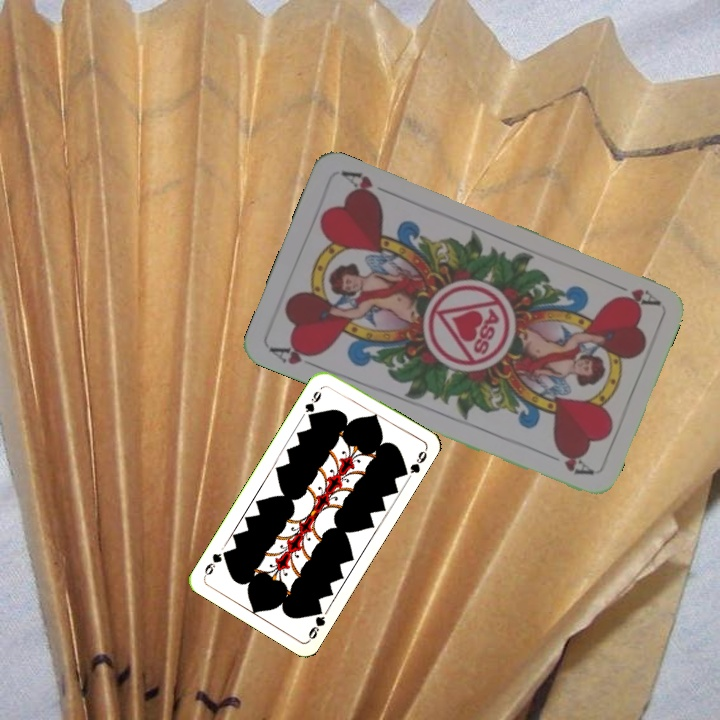G9: (301, 382, 326, 421), (304, 603, 328, 643)
HA: (266, 340, 323, 372), (605, 277, 662, 309)
